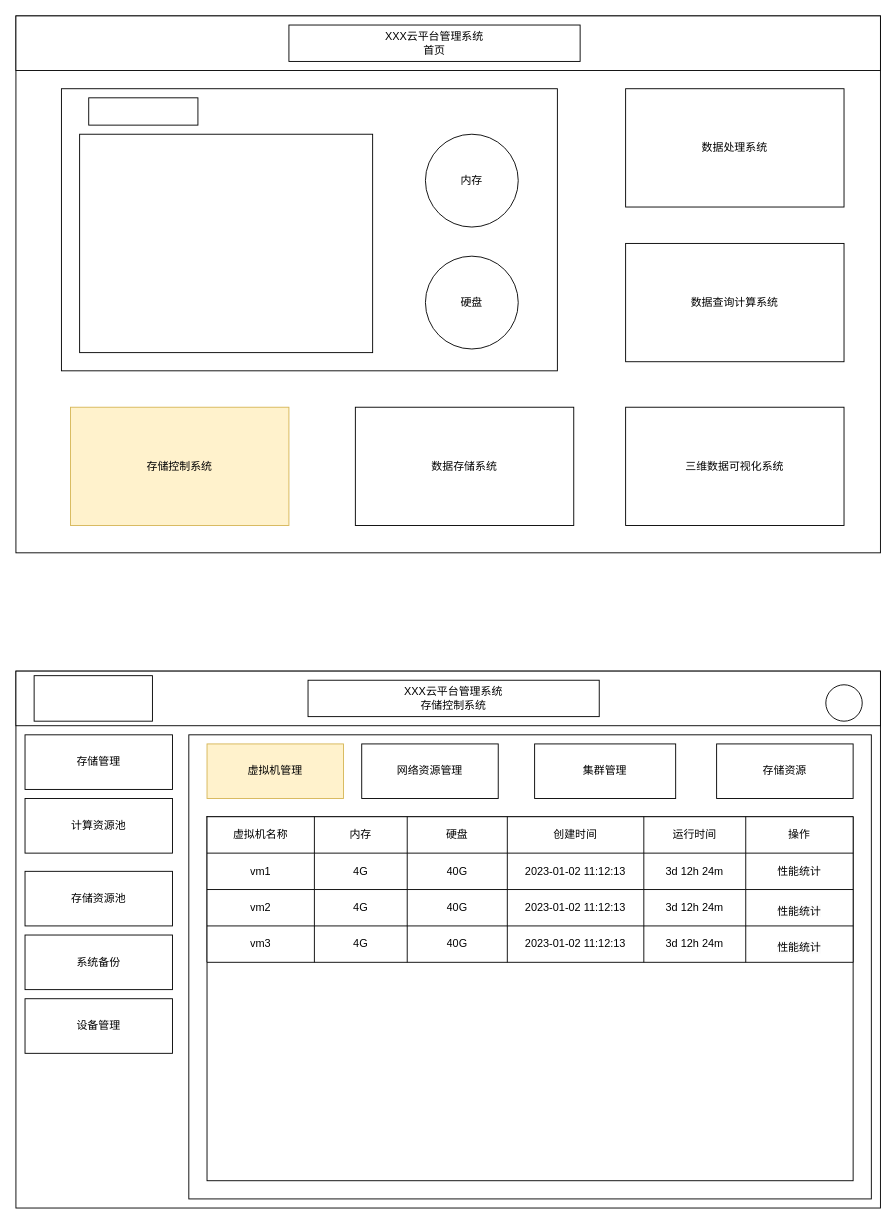
The diagram is 896 pixels wide and 1224 high, and some of its shapes have lost their labels. The centre of each missing label's shape, as x and y in pixels:
"内存使用统计折线图" belongs at (226,243).
"用户" belongs at (843,702).
"资源使用率" belongs at (143,111).
"首页" belongs at (92,698).
